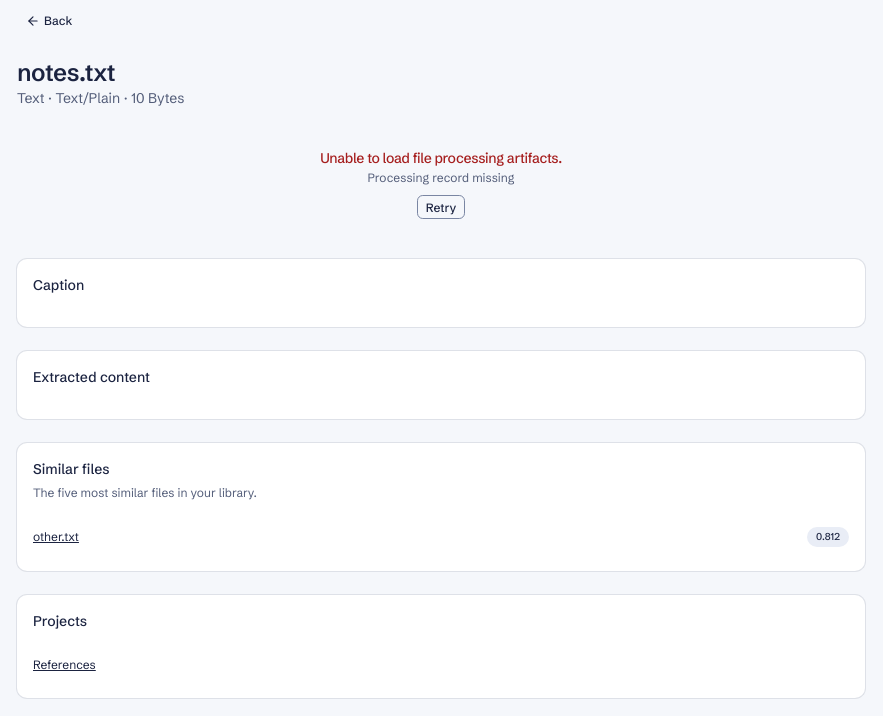
keeps project memberships visible when processing artifacts cannot load
expect the message shows "Unable to load file processing artifacts": met, box [320,149,562,167]
Click the button "Retry" at (441, 207), box [417,195,465,219]
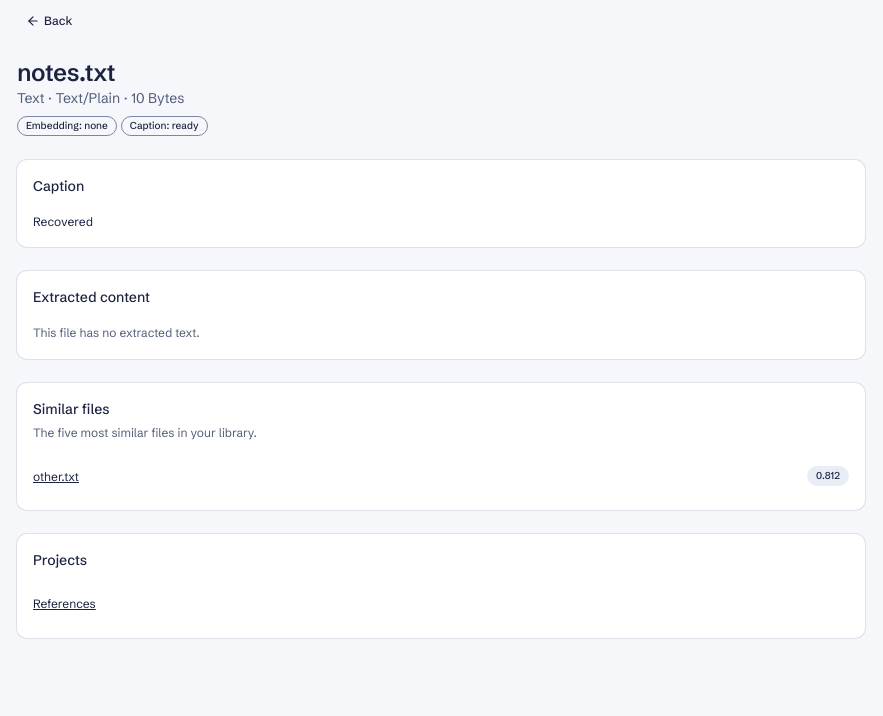
expect the text "Recovered" is shown: met, box [33,214,93,229]
